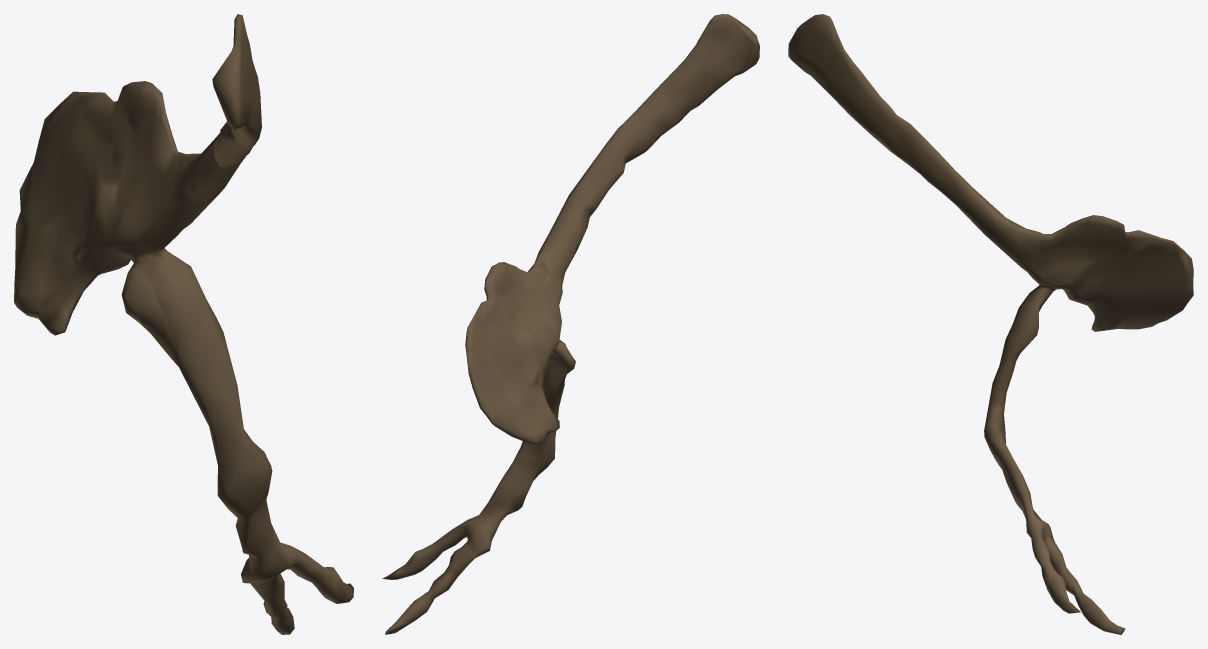
File: Trex_Forelimb_R.fbx
The picture shows the model from 3 angles, left to right: view 1: azimuth 30°, elevation 25°; view 2: azimuth 150°, elevation 25°; view 3: azimuth 270°, elevation 25°; orthographic projection. The views are drawn at different scales.
Visible parts, largest first — view 1: Trex_Forelimb_R; view 2: Trex_Forelimb_R; view 3: Trex_Forelimb_R.
Part boxes in pixels (box(x1,y1,x2,y2)): Trex_Forelimb_R: box(14, 14, 353, 634); Trex_Forelimb_R: box(382, 14, 759, 634); Trex_Forelimb_R: box(788, 14, 1193, 634).
Size of the model in its own units: 0.0789 by 0.1791 by 0.1232.
1 material, 1 textured.
